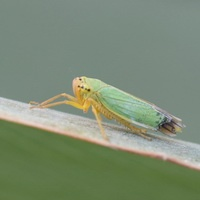insect: (30, 76, 183, 140)
